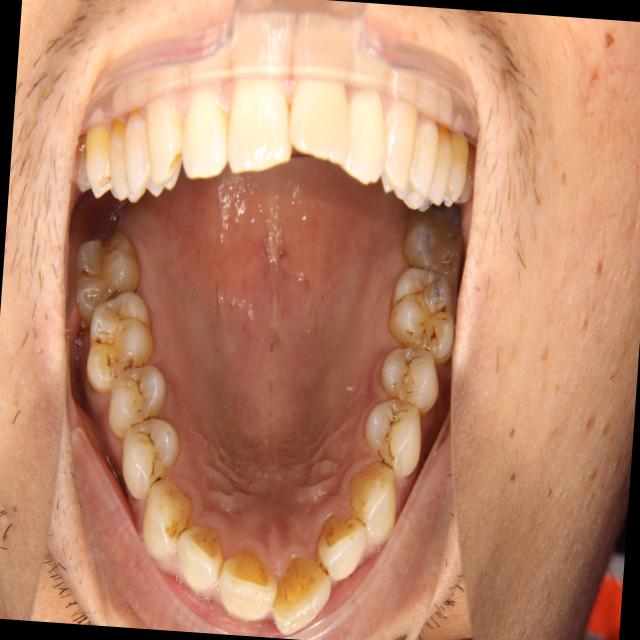tooth: (80, 281, 161, 402), (67, 219, 149, 329), (376, 261, 462, 365), (110, 408, 187, 506), (392, 204, 475, 291), (266, 544, 337, 640), (134, 466, 199, 570), (358, 386, 427, 482), (370, 334, 449, 417), (342, 450, 405, 554), (103, 353, 171, 445), (217, 540, 280, 631), (310, 502, 370, 586), (171, 513, 230, 598)
